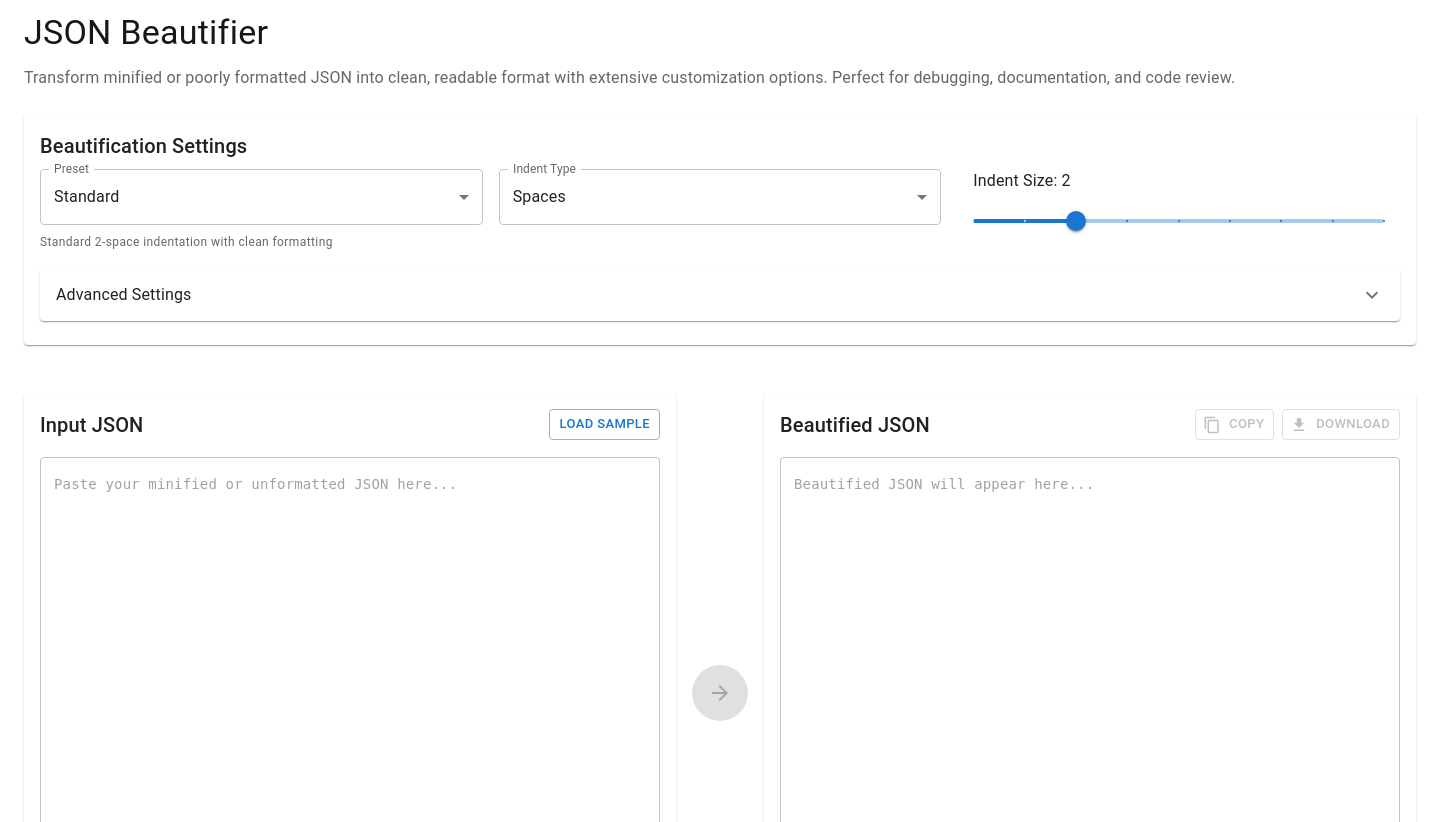
Test case: JsonBeautifierTool › should expand advanced settings when clicked
Click the button "Advanced Settings": (124, 294) [40,269,1400,321]
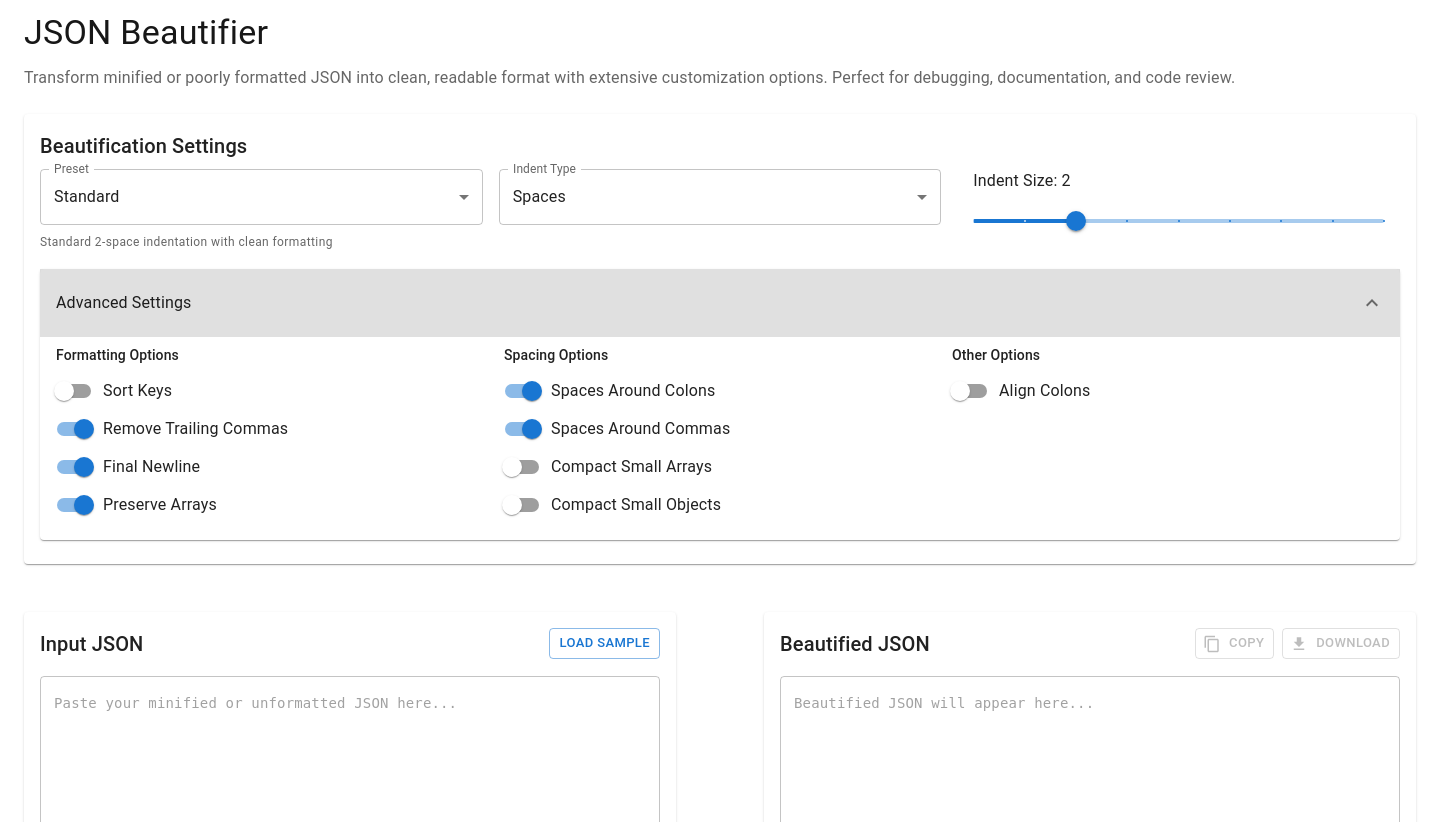
Now the checkbox labelled "Sort Keys" is shown, box [54,381,172,401]
Now the checkbox labelled "Remove Trailing Commas" is shown, box [57,419,288,439]
